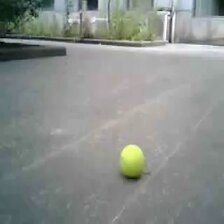tennis: (119, 147, 145, 176)
